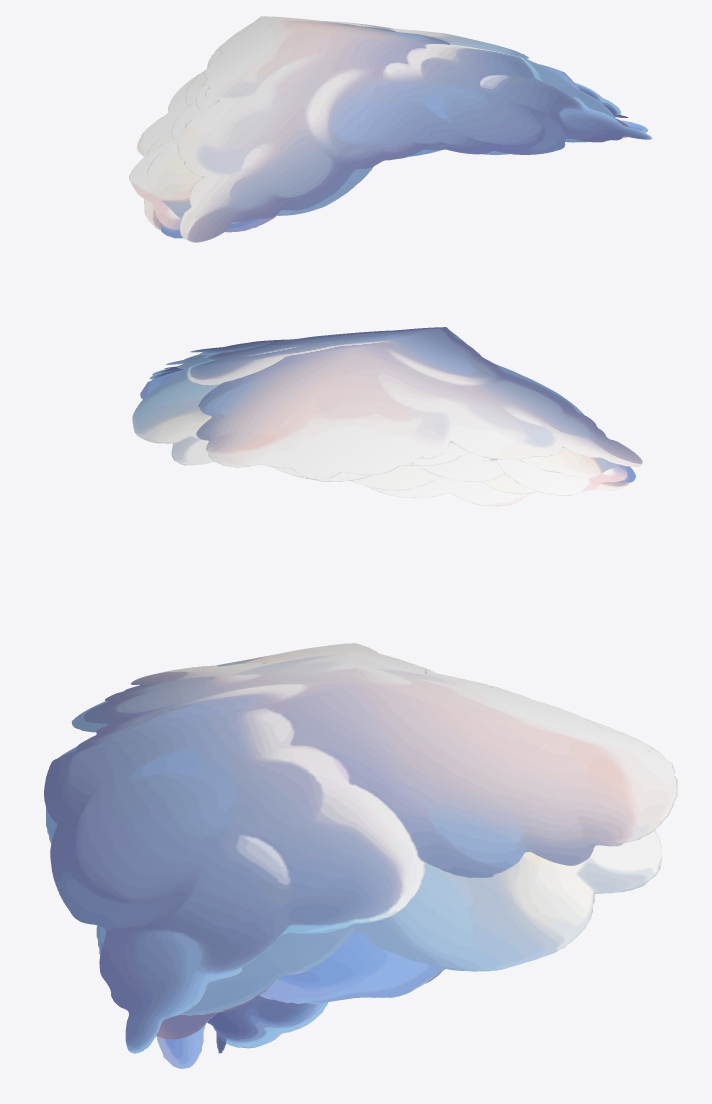
Rendered from Clouds.fbx.
3 views of the same model, one above another, from view 1: azimuth 30°, elevation 25°; view 2: azimuth 150°, elevation 25°; view 3: azimuth 270°, elevation 25° (orthographic). The views are drawn at different scales.
Visible parts, largest first — view 1: Cloud.006, Cloud.003, Cloud.002, Cloud.005, Cloud.004, Cloud.001; view 2: Cloud.006, Cloud.003, Cloud.002, Cloud.001, Cloud.004, Cloud.005; view 3: Cloud.006, Cloud.003, Cloud.005, Cloud.001, Cloud.002.
Boxes of the visible parts, x1,y1,x2,y2 form: Cloud.006: (177, 16, 651, 242); Cloud.003: (146, 21, 615, 224); Cloud.002: (129, 118, 629, 230); Cloud.005: (161, 64, 648, 238); Cloud.004: (137, 72, 628, 156); Cloud.001: (144, 70, 621, 229); Cloud.006: (186, 327, 642, 479); Cloud.003: (132, 330, 618, 481); Cloud.002: (496, 459, 627, 495); Cloud.001: (149, 367, 628, 494); Cloud.004: (164, 366, 539, 506); Cloud.005: (140, 360, 635, 482); Cloud.006: (44, 647, 677, 1053); Cloud.003: (46, 643, 665, 1015); Cloud.005: (157, 931, 440, 1068); Cloud.001: (207, 996, 328, 1048); Cloud.002: (156, 980, 275, 1039).
Size of the model in its own units: 200 by 49.33 by 147.
